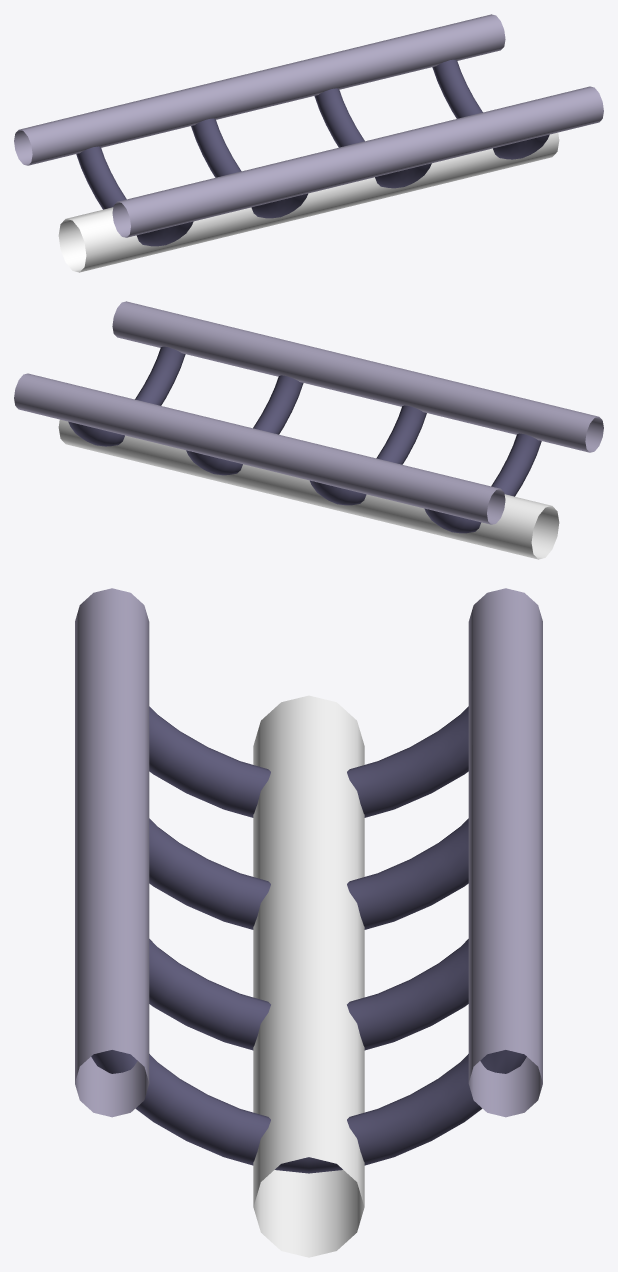
File: straight.obj
3 views of the same model, one above another, from view 1: azimuth 30°, elevation 25°; view 2: azimuth 150°, elevation 25°; view 3: azimuth 270°, elevation 25° (orthographic). The views are drawn at different scales.
Visible parts, largest first — view 1: Plane.306_Mesh; view 2: Plane.306_Mesh; view 3: Plane.306_Mesh.
Boxes of the visible parts, x1=… form: Plane.306_Mesh: x1=14, y1=14, x2=603, y2=272; Plane.306_Mesh: x1=14, y1=301, x2=603, y2=559; Plane.306_Mesh: x1=75, y1=588, x2=542, y2=1257.
Size of the model in its own units: 6.39 by 1.34 by 2.74.
1 material, 1 textured.
